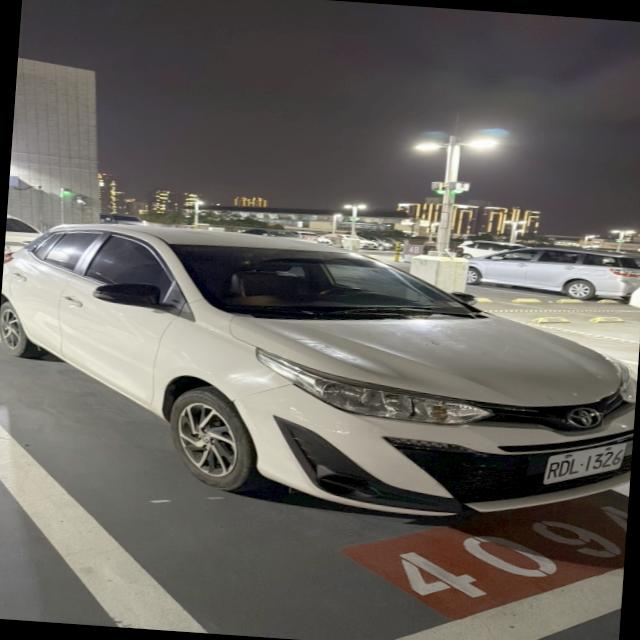license plate: (542, 444, 622, 484)
wheel: (172, 388, 256, 490)
